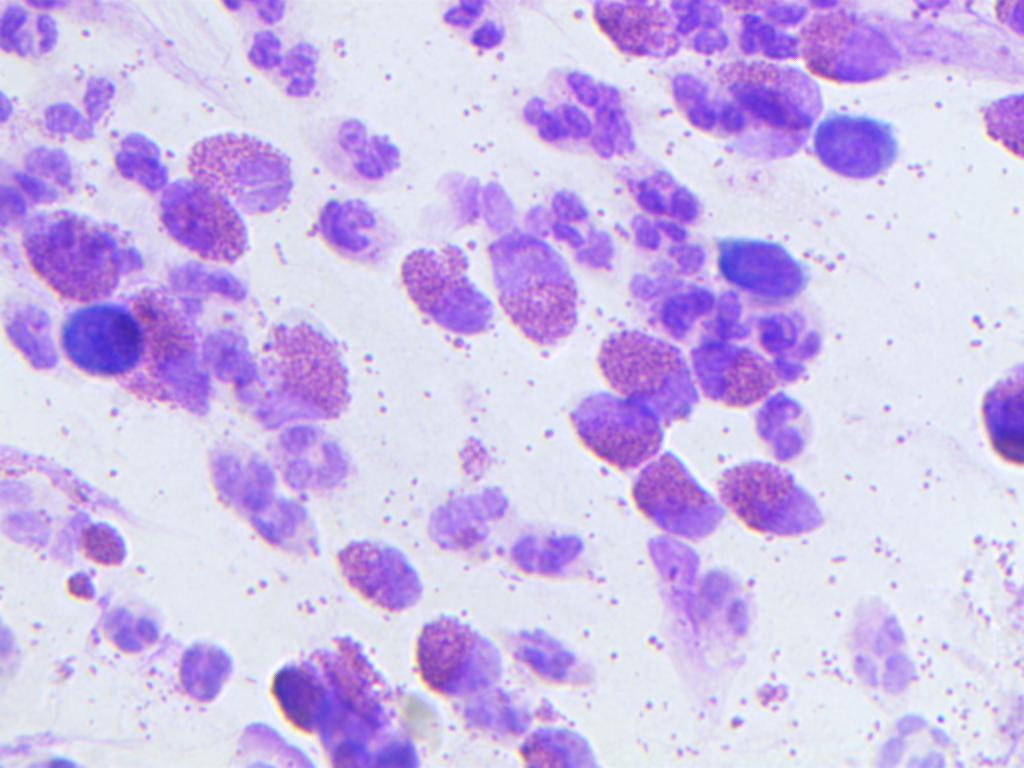eosinophil: (268, 630, 420, 768), (212, 307, 357, 436), (665, 57, 830, 170), (118, 286, 227, 430), (175, 103, 303, 218), (409, 428, 513, 561), (411, 614, 531, 727), (141, 165, 263, 264), (486, 218, 579, 344), (714, 444, 825, 547), (592, 329, 712, 424), (18, 203, 131, 299), (390, 238, 492, 338), (688, 331, 790, 418), (562, 383, 664, 469), (483, 712, 629, 768), (963, 348, 1024, 480), (799, 9, 904, 84), (629, 455, 723, 538), (334, 540, 430, 616), (971, 82, 1024, 183)
goblet_cell: (597, 0, 727, 62)
lymphocyte: (61, 295, 149, 384), (804, 113, 900, 189), (715, 224, 811, 300)
neutrophil: (645, 540, 756, 668), (200, 445, 321, 561), (826, 586, 924, 702), (515, 71, 639, 161), (742, 295, 853, 386), (86, 585, 180, 687), (527, 184, 619, 288), (494, 508, 605, 592), (852, 702, 993, 768), (626, 242, 716, 344), (307, 184, 403, 274), (514, 611, 616, 693), (144, 631, 248, 710), (322, 103, 417, 180), (236, 30, 330, 106), (23, 69, 114, 143), (263, 428, 362, 495), (720, 0, 816, 66), (635, 160, 710, 237), (434, 0, 529, 56), (103, 124, 168, 192), (0, 0, 71, 58)
